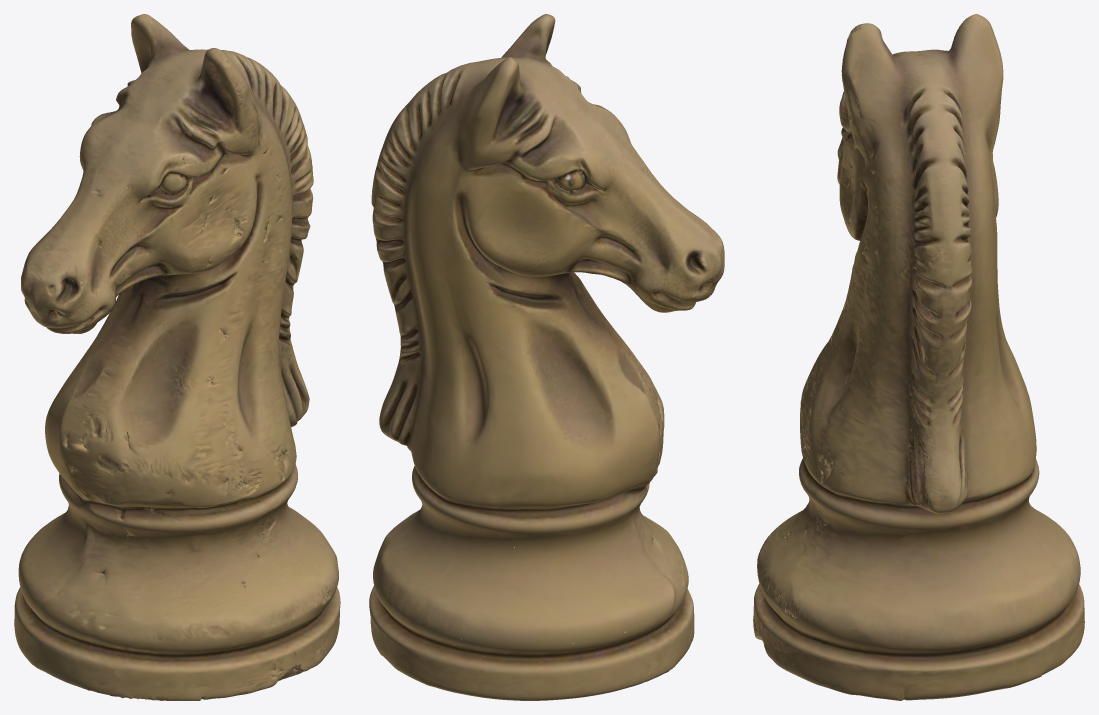
File: knight-brass.glb
3 renders of one model, left to right at view 1: azimuth 30°, elevation 25°; view 2: azimuth 150°, elevation 25°; view 3: azimuth 270°, elevation 25°, orthographic. The views are drawn at different scales.
Visible parts, largest first — view 1: tripo_node_522be191-1158-416c-a40c-07321d4b8929; view 2: tripo_node_522be191-1158-416c-a40c-07321d4b8929; view 3: tripo_node_522be191-1158-416c-a40c-07321d4b8929.
Boxes of the visible parts, x1=… form: tripo_node_522be191-1158-416c-a40c-07321d4b8929: x1=14, y1=14, x2=340, y2=700; tripo_node_522be191-1158-416c-a40c-07321d4b8929: x1=369, y1=14, x2=724, y2=700; tripo_node_522be191-1158-416c-a40c-07321d4b8929: x1=753, y1=14, x2=1084, y2=700.
Bounding box in the file's own units: 0.5405 × 0.98 × 0.4791.
Materials: 1 (1 with a texture image).
